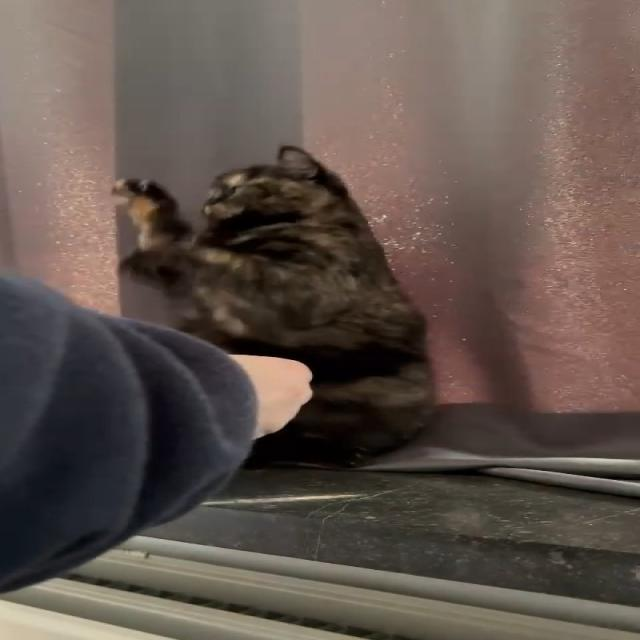authorized: (109, 144, 436, 470)
